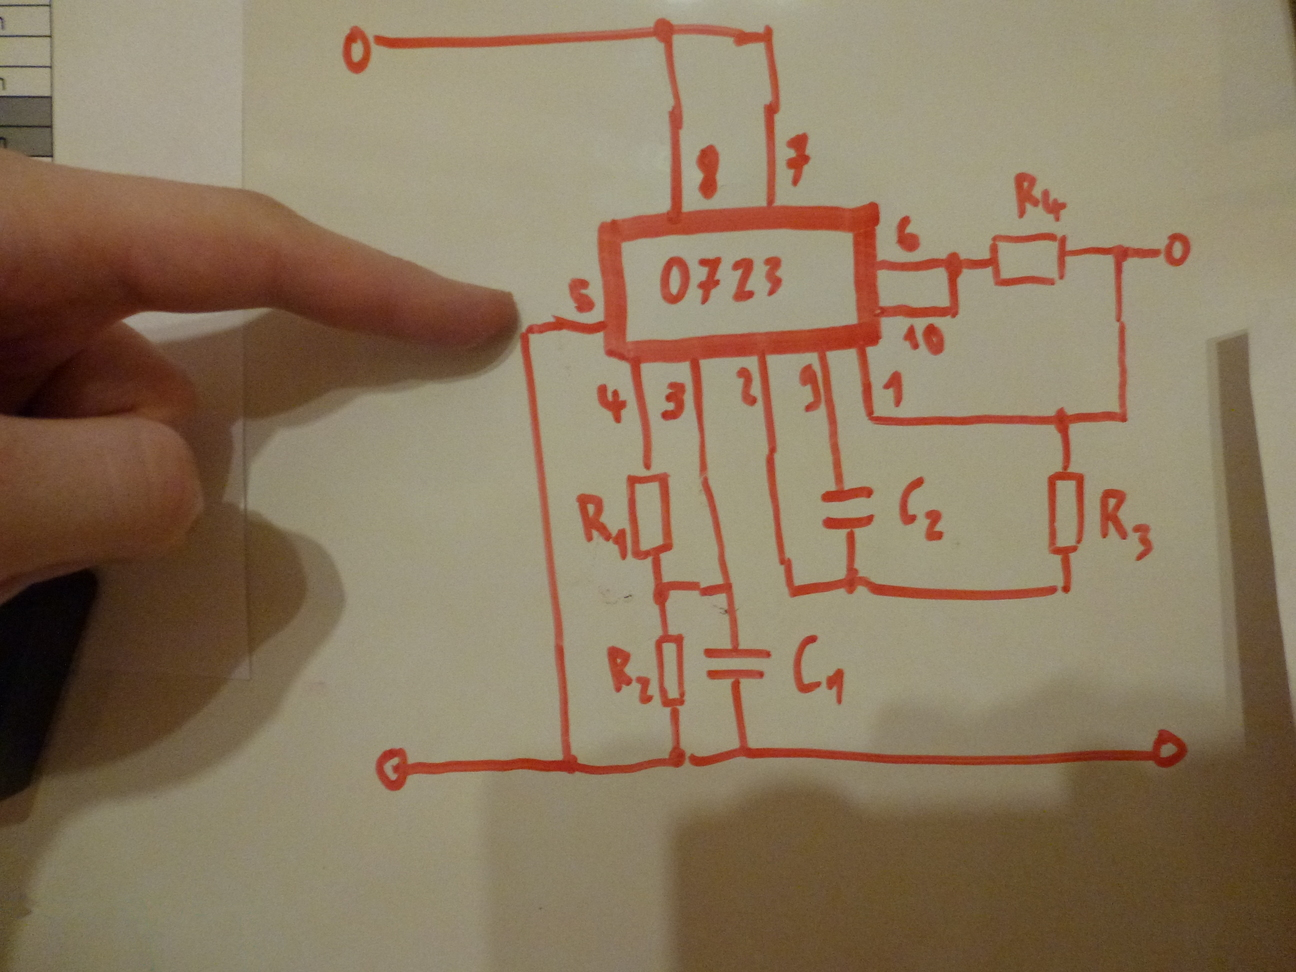capacitor.unpolarized: (698, 634, 775, 691), (817, 479, 881, 538)
integrated_circuit: (594, 204, 883, 364)
junction: (835, 566, 873, 598), (663, 743, 698, 776), (1045, 403, 1078, 437), (649, 11, 680, 47), (644, 577, 676, 610), (554, 750, 584, 780), (938, 249, 964, 282), (756, 19, 781, 52), (1048, 576, 1078, 601), (713, 575, 744, 599), (1106, 240, 1133, 268), (776, 581, 807, 603), (733, 737, 757, 765), (1110, 402, 1135, 429), (515, 320, 537, 343), (945, 297, 963, 322), (861, 408, 882, 428)
resistor: (624, 460, 681, 567), (984, 228, 1077, 293), (1041, 463, 1092, 564), (652, 623, 691, 716)
terminal: (336, 20, 391, 79), (367, 741, 423, 795), (1144, 724, 1194, 777), (1157, 230, 1196, 272)
text: (652, 249, 790, 308), (1095, 482, 1161, 564), (785, 631, 849, 707), (893, 472, 952, 546), (569, 490, 629, 565), (1006, 166, 1073, 226), (604, 643, 654, 707), (687, 139, 731, 203), (780, 130, 818, 189), (888, 205, 928, 256), (898, 320, 948, 358), (554, 271, 596, 315), (591, 380, 630, 427), (792, 362, 824, 416), (658, 377, 690, 425), (878, 368, 911, 412), (732, 362, 760, 410)
